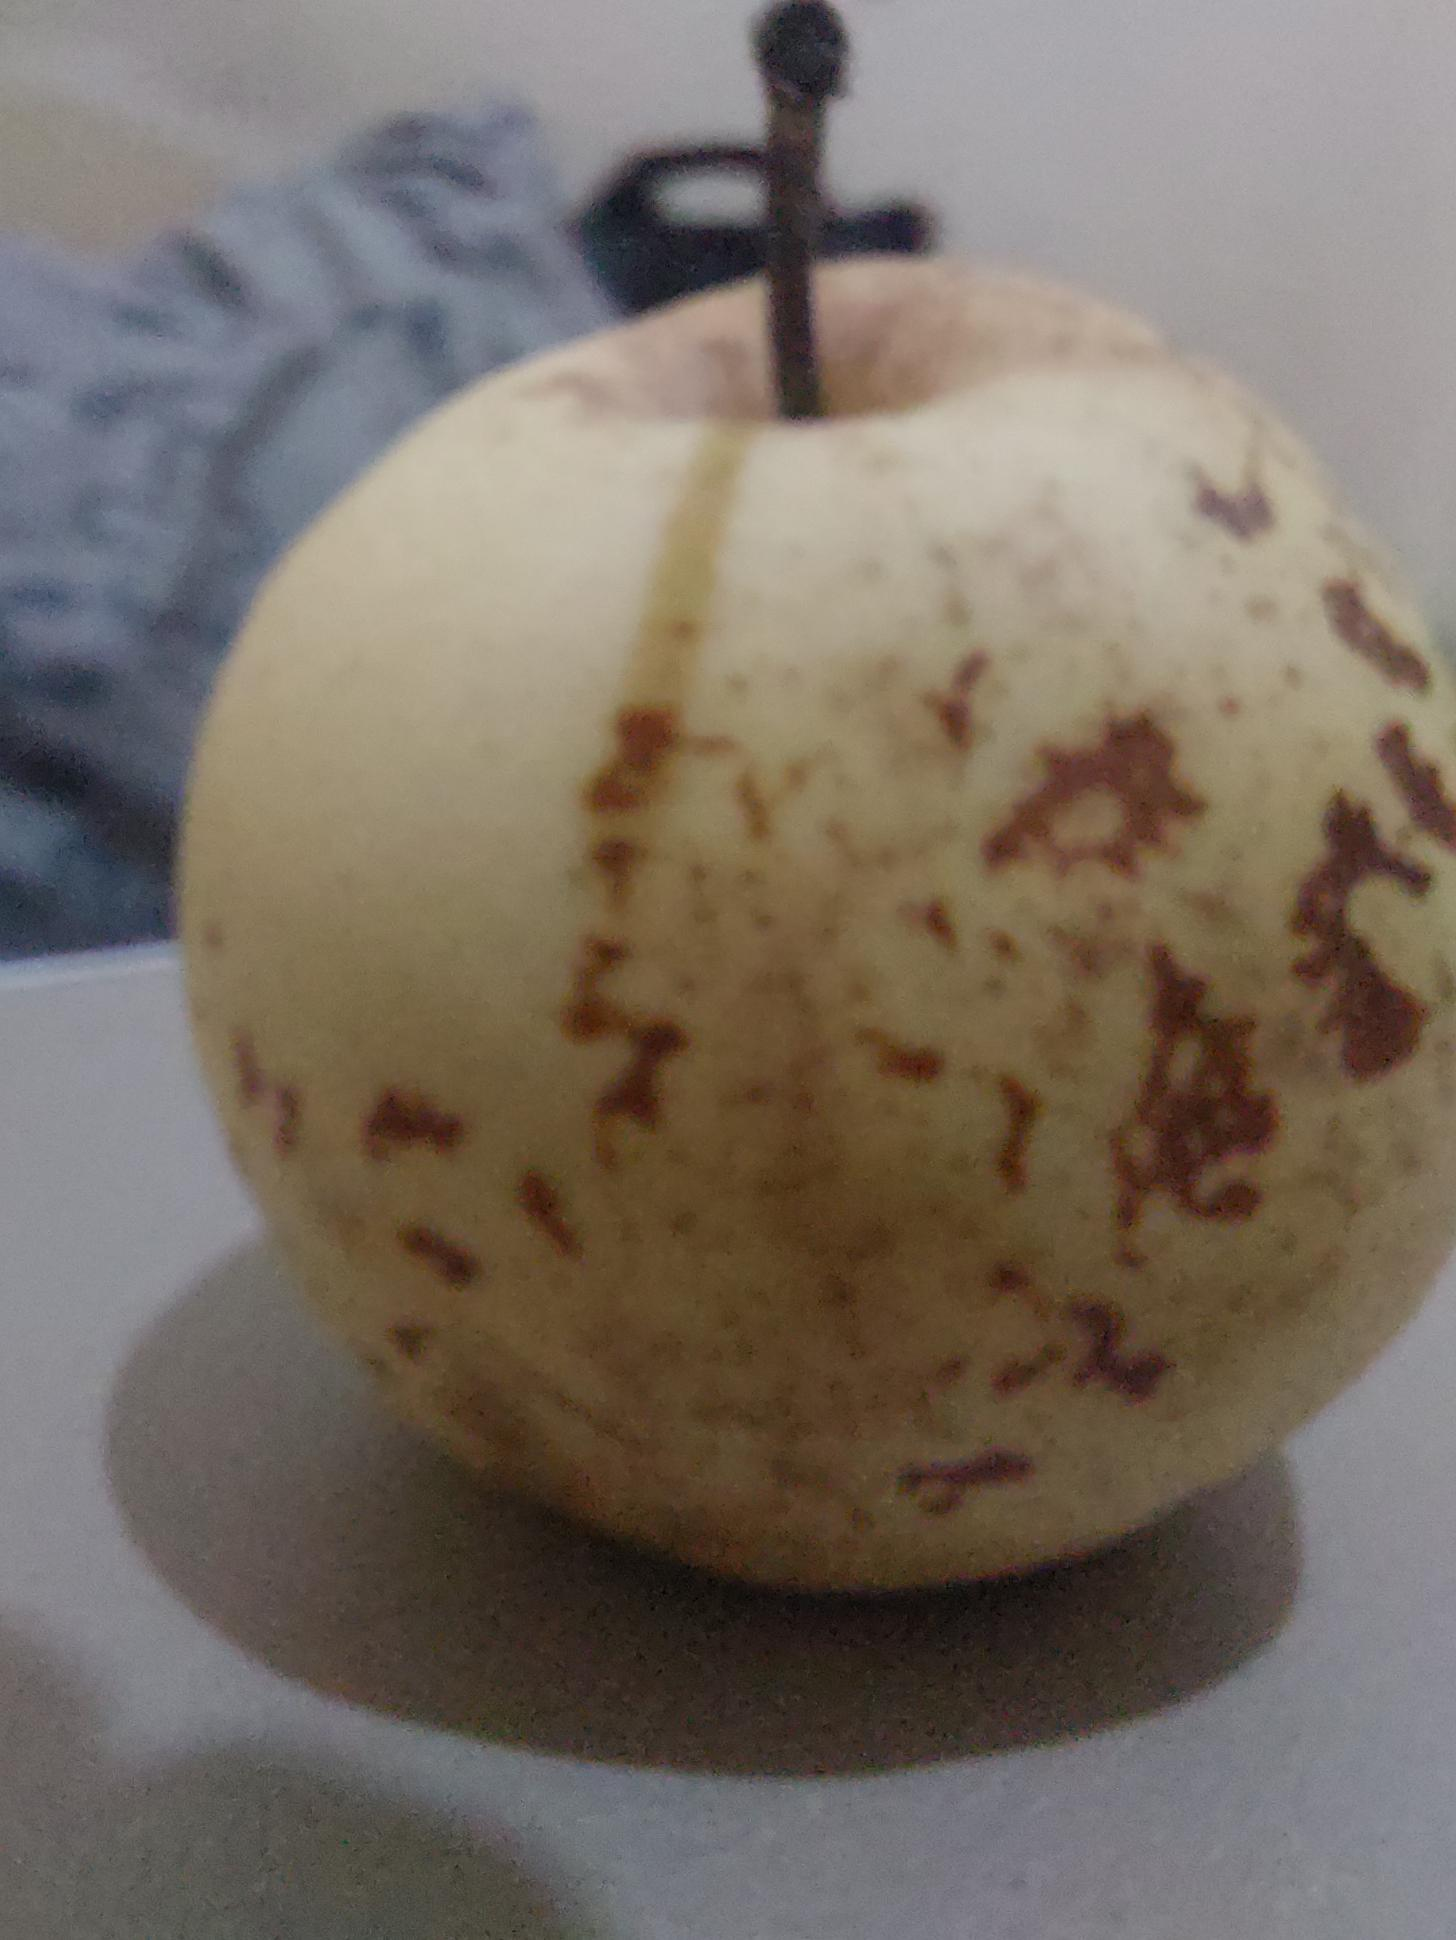Bad Pear: (185, 303, 1432, 1576)
